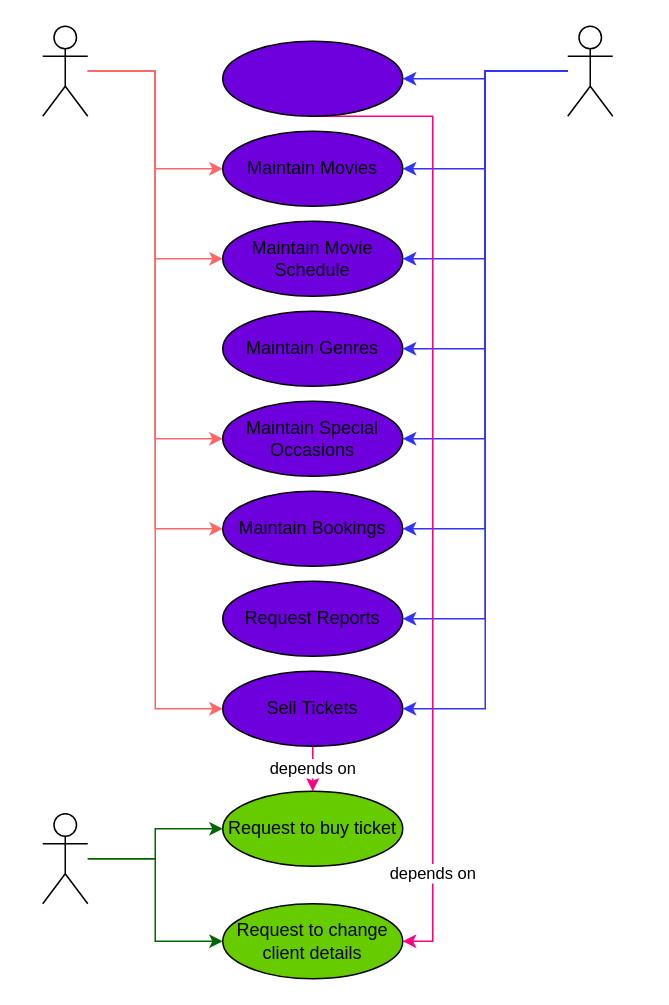
This 669x1005 diagram has some shape labels left out. The shapes that lost their labels are listed below. From the top down, each one's centre as x and y in pixels, then its label:
At [64,70]: "Employee".
At [312,78]: "Maintain Clients".
At [589,70]: "Administrator".
At [64,858]: "Client".
